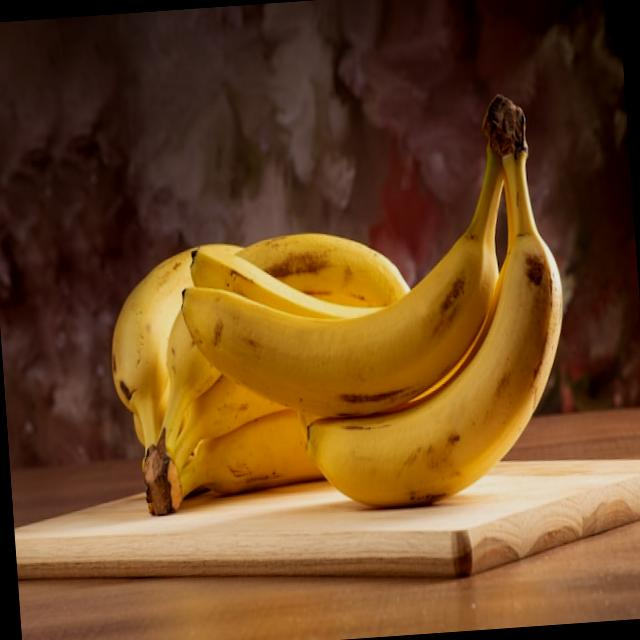banana: (164, 84, 580, 527), (100, 215, 492, 530)
